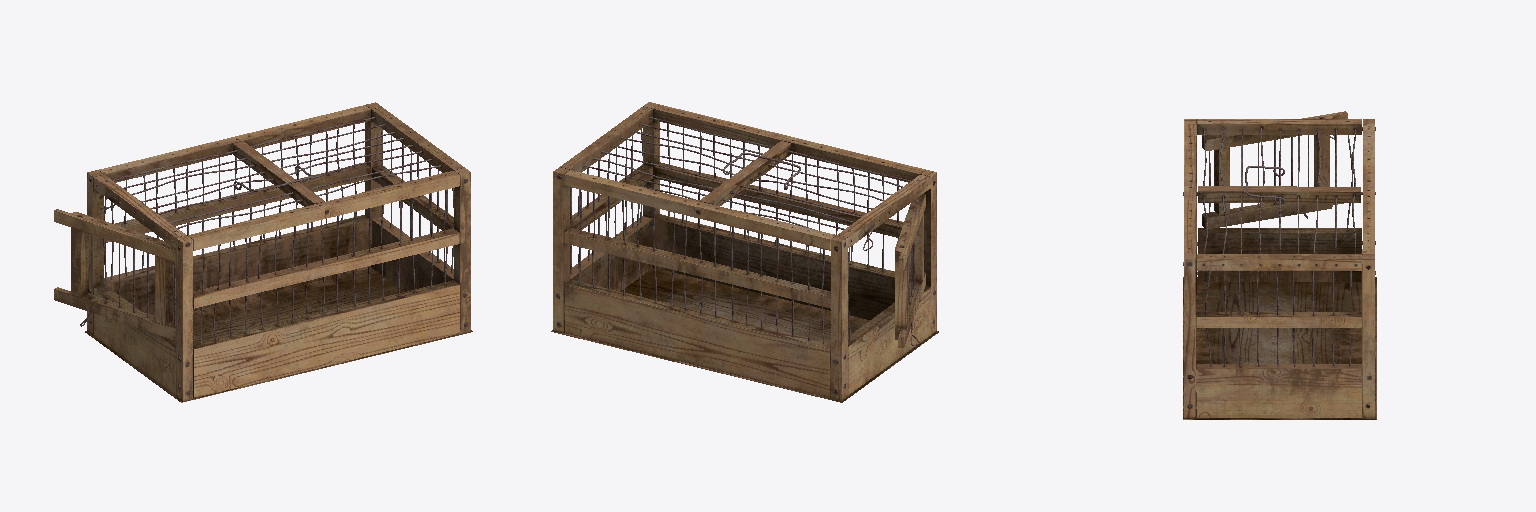
3 renders of one model, left to right at view 1: azimuth 30°, elevation 25°; view 2: azimuth 150°, elevation 25°; view 3: azimuth 270°, elevation 25°, orthographic.
Parts seen in each view (by area): view 1: Cube.002, Cube.001; view 2: Cube.002, Cube.001; view 3: Cube.002, Cube.001.
Part boxes in pixels (x1,y1,x2,y2): Cube.002: (85, 102, 472, 402); Cube.001: (54, 209, 175, 340); Cube.002: (551, 102, 938, 402); Cube.001: (895, 194, 925, 347); Cube.002: (1183, 119, 1376, 419); Cube.001: (1202, 111, 1347, 229).
Size of the model in its own units: 10.07 by 4.67 by 5.01.
2 materials, 2 textured.